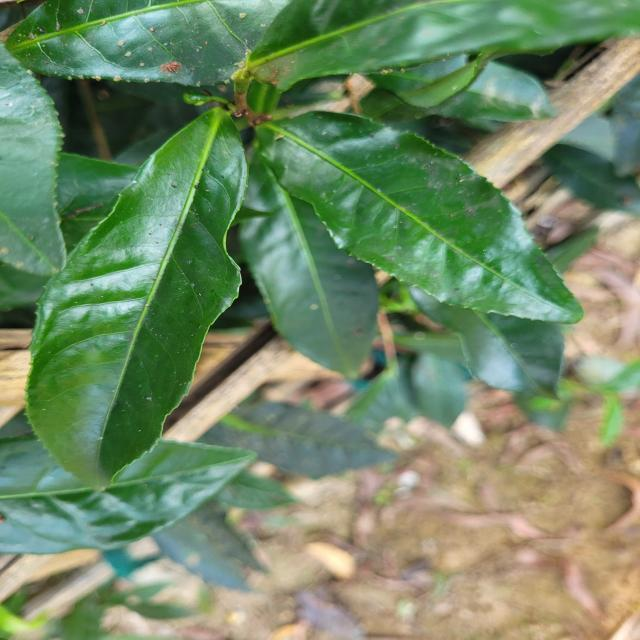Category D(7+ days, Not for Tea): (7, 94, 260, 495)
